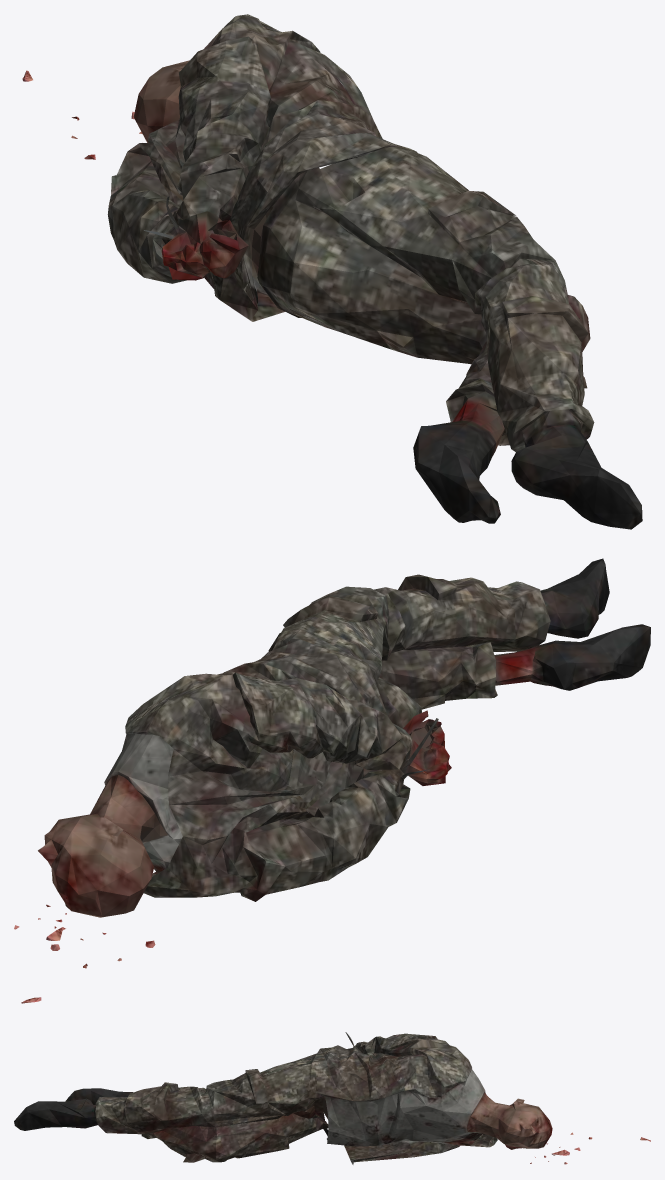
File: fallen-soldier-5-lod3.glb
The picture shows the model from 3 angles, top to bottom: view 1: azimuth 30°, elevation 25°; view 2: azimuth 150°, elevation 25°; view 3: azimuth 270°, elevation 25°; orthographic projection. The views are drawn at different scales.
Parts seen in each view (by area): view 1: world; view 2: world; view 3: world.
Boxes of the visible parts, box(x1,y1,x2,y2) form: world: box(22, 14, 642, 529); world: box(14, 558, 650, 1003); world: box(14, 1032, 650, 1164).
Bounding box in the file's own units: 0.5898 × 0.4038 × 2.18.
1 material, 1 textured.
